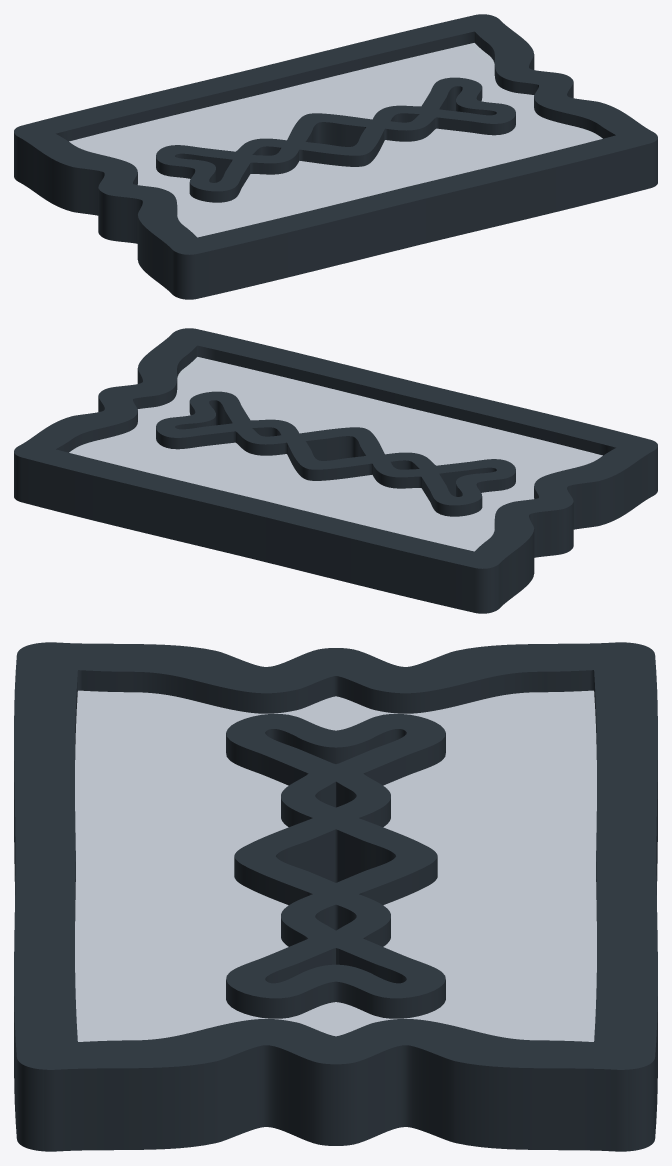
Rendered from Razor.glb.
3 renders of one model, top to bottom at view 1: azimuth 30°, elevation 25°; view 2: azimuth 150°, elevation 25°; view 3: azimuth 270°, elevation 25°, orthographic. The views are drawn at different scales.
Visible parts, largest first — view 1: Curve.017; view 2: Curve.017; view 3: Curve.017.
Boxes of the visible parts, x1,y1,x2,y2 form: Curve.017: (14, 14, 657, 299); Curve.017: (14, 328, 657, 613); Curve.017: (14, 642, 657, 1151).
Size of the model in its own units: 2.22 by 0.198 by 1.41.
1 material, 1 textured.
